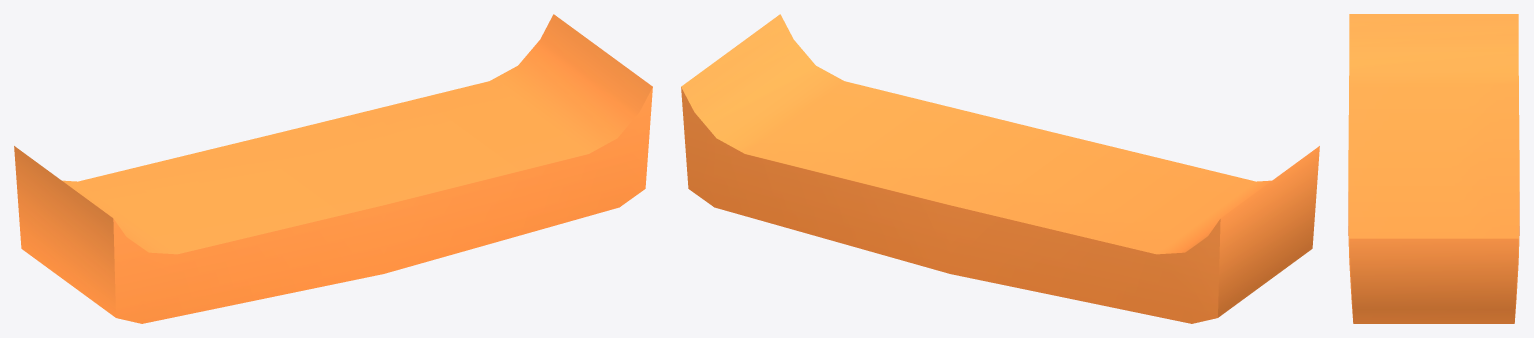
Rendered from bronze_guard_077.glb.
3 views of the same model, side by side, from view 1: azimuth 30°, elevation 25°; view 2: azimuth 150°, elevation 25°; view 3: azimuth 270°, elevation 25° (orthographic). The views are drawn at different scales.
Visible parts, largest first — view 1: bronze_guard_077; view 2: bronze_guard_077; view 3: bronze_guard_077.
Boxes of the visible parts, left/top/right/bottom form: bronze_guard_077: left=14, top=14, right=652, bottom=323; bronze_guard_077: left=681, top=14, right=1319, bottom=323; bronze_guard_077: left=1348, top=14, right=1519, bottom=323.
Bounding box in the file's own units: 6.1 × 1.31 × 1.97.
Materials: 1 (1 with a texture image).
